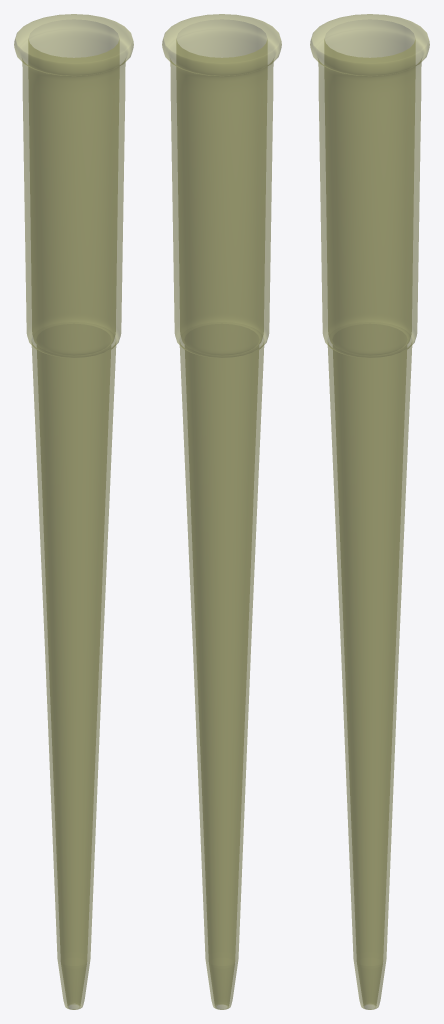
Rendered from НаконечникМаленький.dae.
3 views of the same model, side by side, from view 1: azimuth 90°, elevation 25°; view 2: azimuth 150°, elevation 25°; view 3: azimuth 270°, elevation 25° (orthographic).
Parts seen in each view (by area): view 1: Наконечник; view 2: Наконечник; view 3: Наконечник.
Boxes of the visible parts, x1,y1,x2,y2 form: Наконечник: (14,14,133,1009); Наконечник: (162,14,281,1009); Наконечник: (310,14,429,1009).
Size of the model in its own units: 0.56 by 5 by 0.56.
